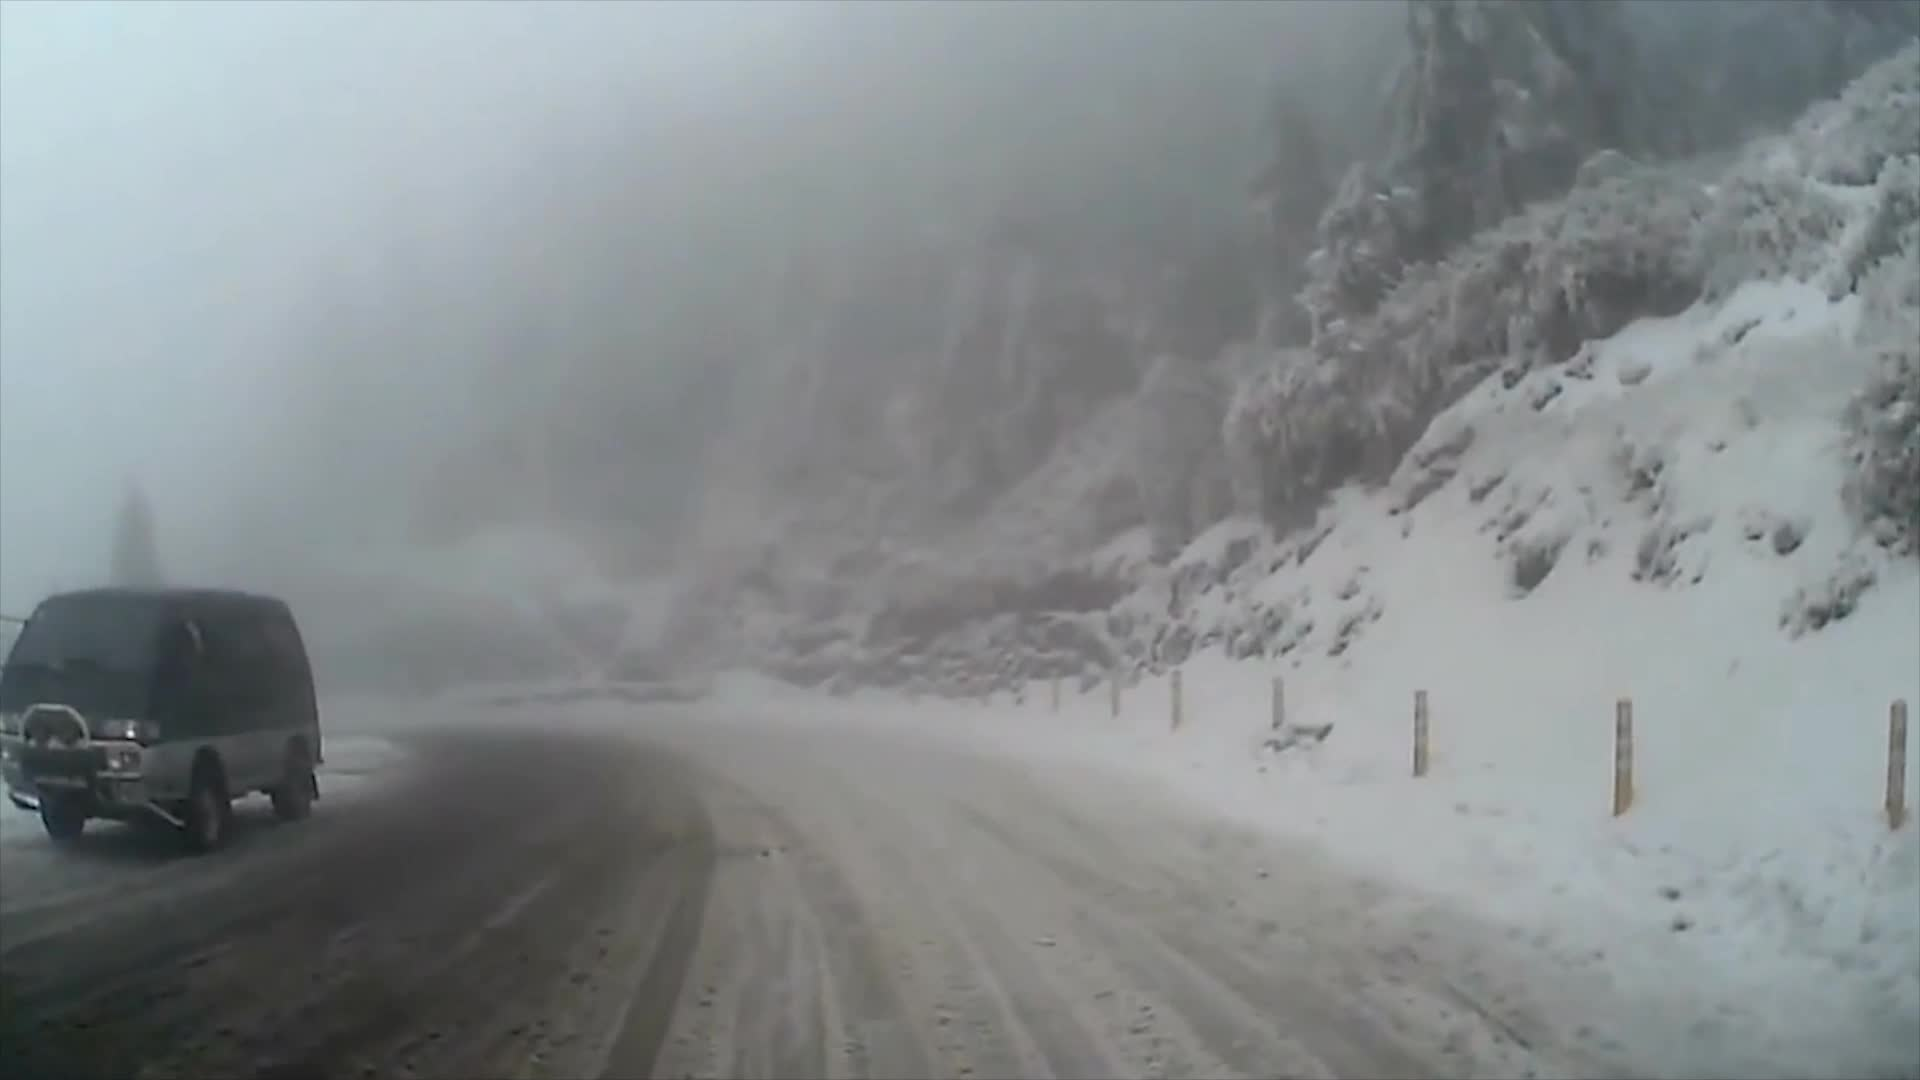vehicle: (0, 584, 326, 853)
